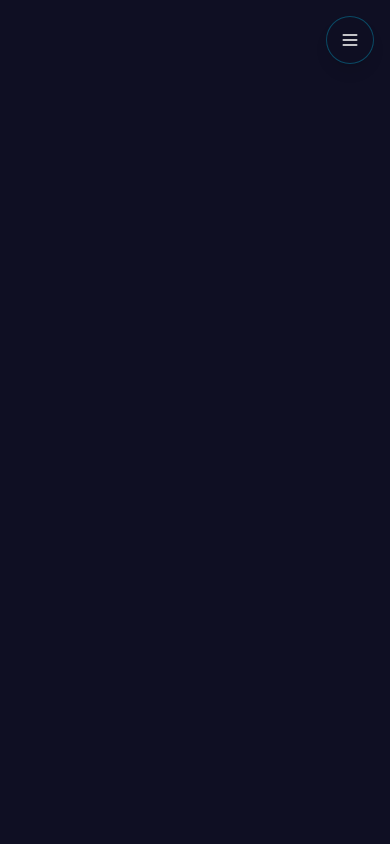
Scenario: mobile menu keyboard handling › Escape closes the drawer
This screenshot has width=390, height=844.
Click the button named "Open menu" at (350, 40), box [326,16,374,64]
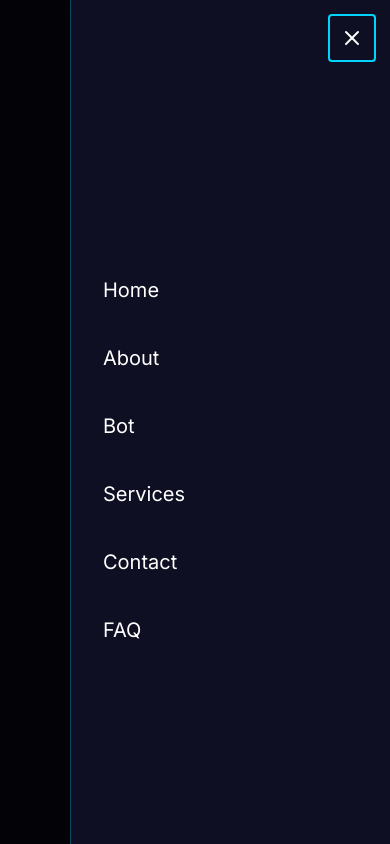
Now the dialog is shown
Press Escape
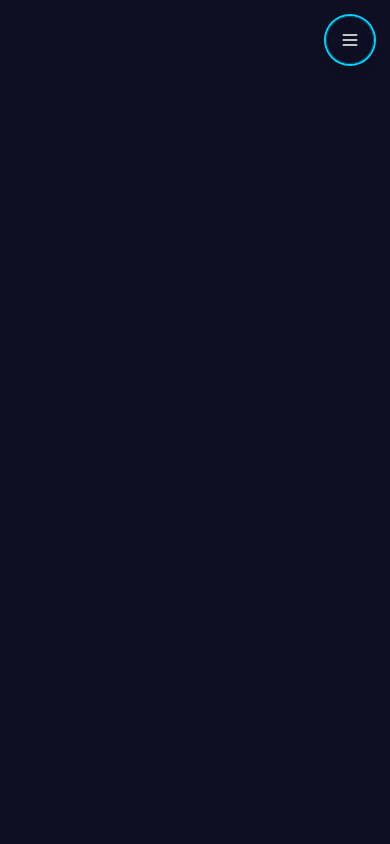
Now the dialog is gone
